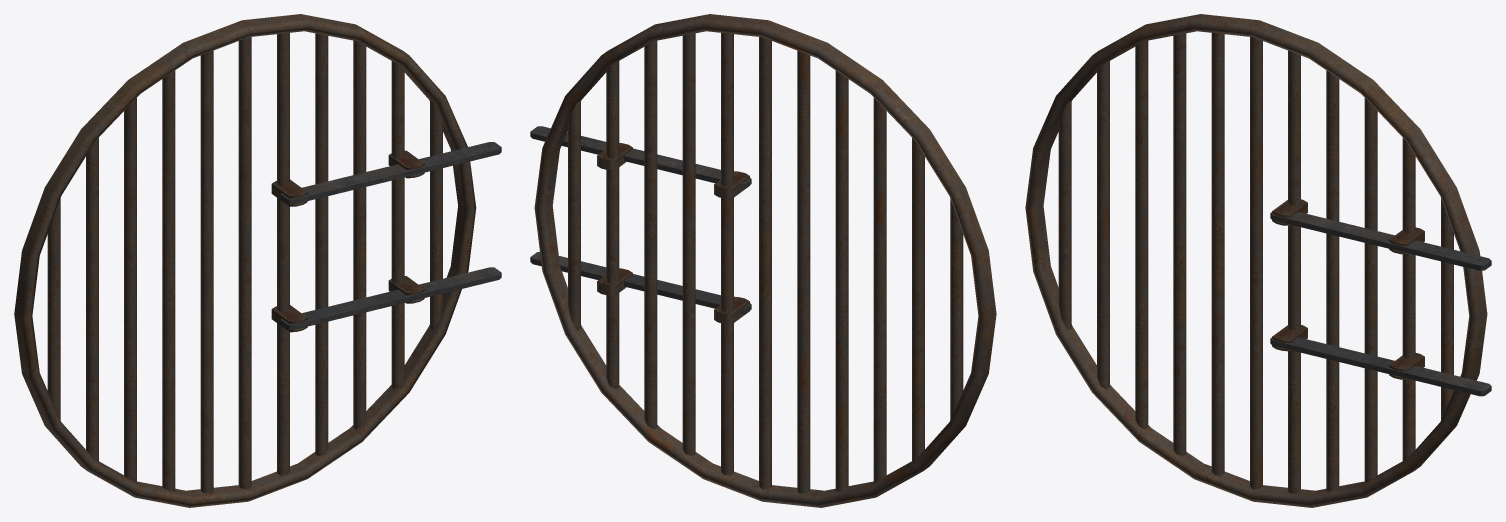
File: SM_Sewer_Halo_Cage_A.fbx
3 views of the same model, side by side, from view 1: azimuth 30°, elevation 25°; view 2: azimuth 150°, elevation 25°; view 3: azimuth 330°, elevation 25° (orthographic).
Parts seen in each view (by area): view 1: SM_Sewer_Halo_Cage_A; view 2: SM_Sewer_Halo_Cage_A; view 3: SM_Sewer_Halo_Cage_A.
Boxes of the visible parts, bbox=[...] form: SM_Sewer_Halo_Cage_A: bbox=[14, 14, 501, 507]; SM_Sewer_Halo_Cage_A: bbox=[530, 14, 996, 507]; SM_Sewer_Halo_Cage_A: bbox=[1025, 14, 1491, 507].
Size of the model in its own units: 205 by 199 by 16.05.
